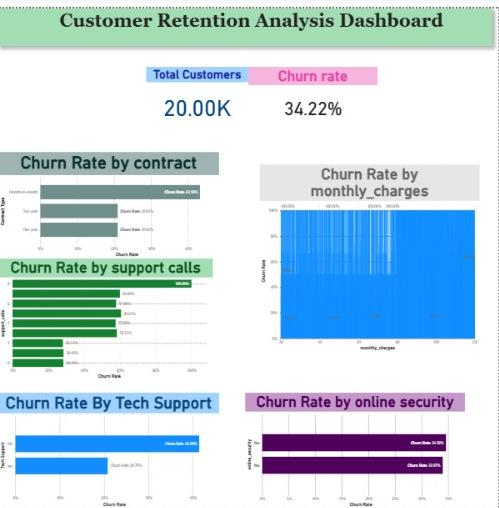

The page's visual inventory and layout, read from the dashboard file:
{"tool":"powerbi","page":{"name":"Page 1","canvas":[1600,1600],"ordinal":0},"visuals":[{"type":"card","title":"Total Customers","fields":{"Values":["Count(customer_churn_dataset.customer_id)"]},"box":[473.3,186.7,326.7,200],"z":0},{"type":"card","title":"Churn rate","fields":{"Values":["customer_churn_dataset.Churn Rate"]},"box":[800,186.7,413.3,200],"z":1000},{"type":"clusteredBarChart","fields":{"Category":["customer_churn_dataset.contract"],"Y":["customer_churn_dataset.Churn Rate"]},"box":[0,460,706.7,340],"z":2000},{"type":"clusteredBarChart","title":"Churn Rate By Tech Support","fields":{"Category":["customer_churn_dataset.tech_support"],"Y":["customer_churn_dataset.Churn Rate"]},"box":[0,1230,706.7,370],"z":3000},{"type":"clusteredBarChart","title":"Churn Rate by online security","fields":{"Y":["customer_churn_dataset.Churn Rate"],"Category":["customer_churn_dataset.online_security"]},"box":[790,1230,703.3,370],"z":4000},{"type":"clusteredBarChart","title":"Churn Rate by support calls","fields":{"Category":["customer_churn_dataset.support_calls"],"Y":["customer_churn_dataset.Churn Rate"]},"box":[0,800,686.7,390],"z":5000},{"type":"clusteredColumnChart","fields":{"Category":["customer_churn_dataset.monthly_charges"],"Y":["customer_churn_dataset.Churn Rate"]},"box":[836.7,500,703.3,600],"z":6000},{"type":"textbox","box":[0,0,1580,120],"z":6001}]}

Visuals, with their boxes in screenshot pixels (x1, y1, x2, y2), scaled from the page's 1600x1600 canvas onto the 499x508 screenshot:
"Total Customers" card: 148/59/250/123
"Churn rate" card: 250/59/378/123
clusteredBarChart - customer_churn_dataset.contract x customer_churn_dataset.Churn Rate: 0/146/220/254
"Churn Rate By Tech Support" clusteredBarChart: 0/391/220/507
"Churn Rate by online security" clusteredBarChart: 246/391/466/507
"Churn Rate by support calls" clusteredBarChart: 0/254/214/378
clusteredColumnChart - customer_churn_dataset.monthly_charges x customer_churn_dataset.Churn Rate: 261/159/480/349
textbox: 0/0/493/38
